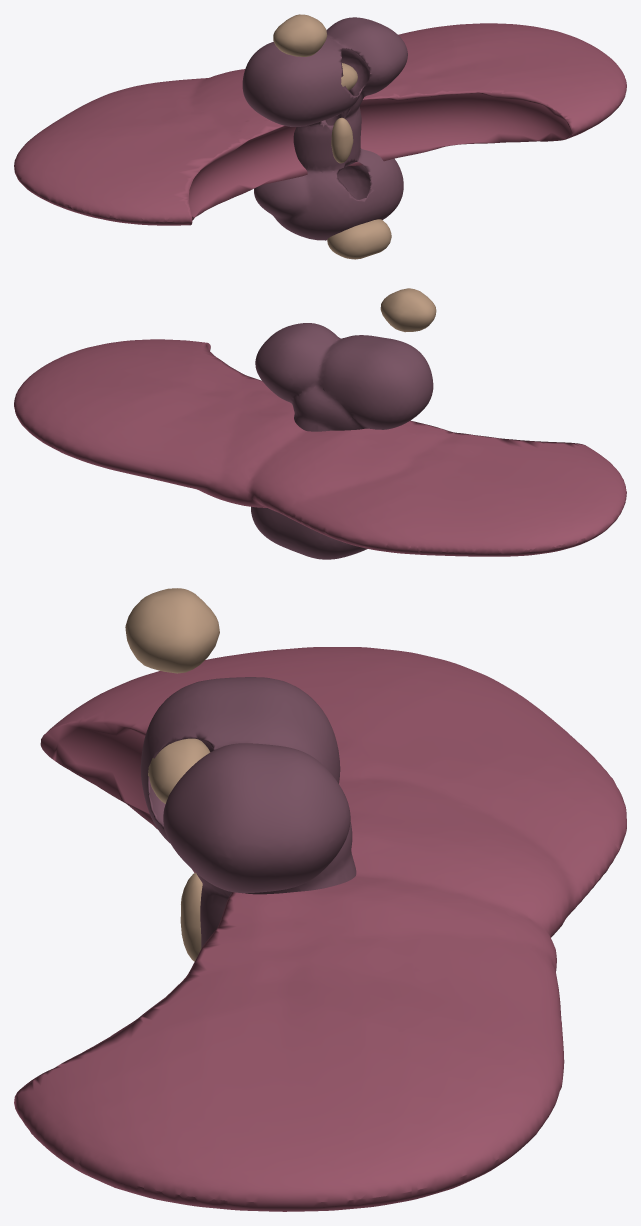
Rendered from transmembrane_complex_lod0.glb.
3 views of the same model, one above another, from view 1: azimuth 30°, elevation 25°; view 2: azimuth 150°, elevation 25°; view 3: azimuth 270°, elevation 25° (orthographic). The views are drawn at different scales.
Visible parts, largest first — view 1: Soft_Undulating_Membrane.001, Asymmetric_Transmembrane_Complex.001, released cargo.001, approaching cargo.001, compressed cargo.001; view 2: Soft_Undulating_Membrane.001, Asymmetric_Transmembrane_Complex.001, approaching cargo.001; view 3: Soft_Undulating_Membrane.001, Asymmetric_Transmembrane_Complex.001, approaching cargo.001, captured cargo.001, compressed cargo.001.
Boxes of the visible parts, x1,y1,x2,y2 form: Soft_Undulating_Membrane.001: (14, 23, 626, 225); Asymmetric_Transmembrane_Complex.001: (242, 17, 407, 240); released cargo.001: (327, 219, 391, 259); approaching cargo.001: (273, 14, 327, 56); compressed cargo.001: (331, 117, 353, 163); Soft_Undulating_Membrane.001: (14, 339, 626, 556); Asymmetric_Transmembrane_Complex.001: (251, 323, 433, 559); approaching cargo.001: (380, 288, 436, 332); Soft_Undulating_Membrane.001: (14, 647, 626, 1211); Asymmetric_Transmembrane_Complex.001: (140, 677, 356, 948); approaching cargo.001: (125, 588, 219, 673); captured cargo.001: (148, 738, 210, 803); compressed cargo.001: (180, 872, 202, 961).
Bounding box in the file's own units: 6.53 × 2.83 × 3.07.
